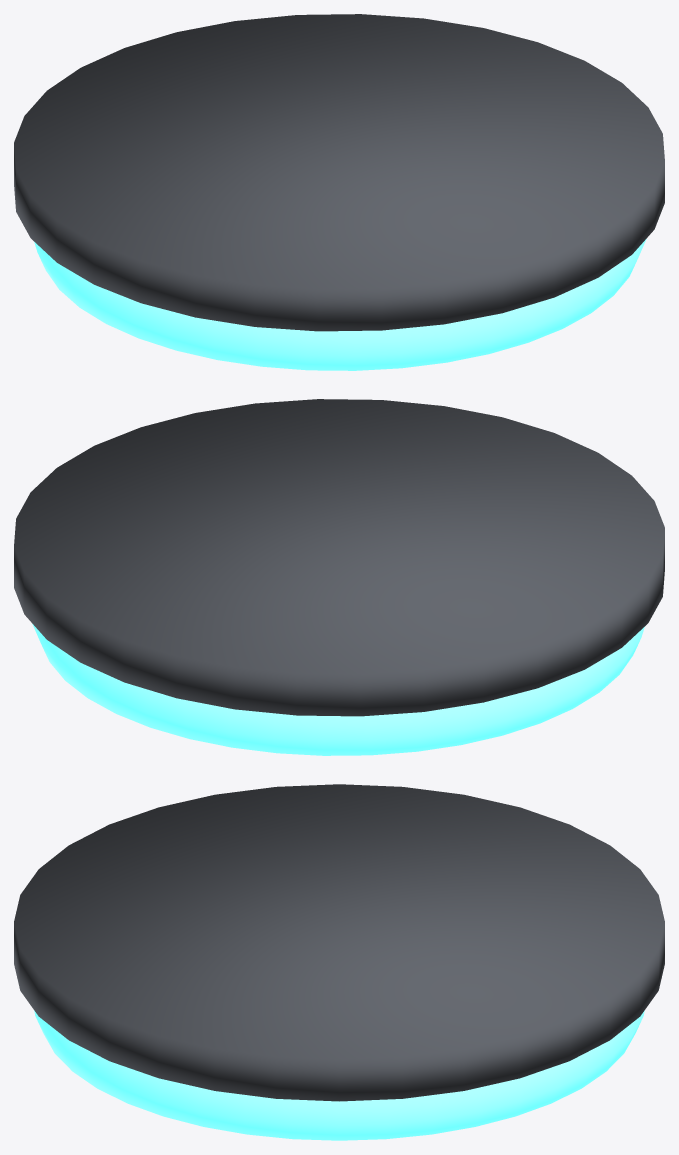
Rendered from ceiling_light_ring.glb.
3 views of the same model, one above another, from view 1: azimuth 30°, elevation 25°; view 2: azimuth 150°, elevation 25°; view 3: azimuth 270°, elevation 25° (orthographic).
Parts seen in each view (by area): view 1: GD_ceiling_light_ring__m0, GD_ceiling_light_ring__m1; view 2: GD_ceiling_light_ring__m0, GD_ceiling_light_ring__m1; view 3: GD_ceiling_light_ring__m0, GD_ceiling_light_ring__m1.
Boxes of the visible parts, x1,y1,x2,y2 form: GD_ceiling_light_ring__m0: (14,14,664,331); GD_ceiling_light_ring__m1: (34,239,646,370); GD_ceiling_light_ring__m0: (14,399,664,716); GD_ceiling_light_ring__m1: (32,624,644,755); GD_ceiling_light_ring__m0: (14,784,664,1101); GD_ceiling_light_ring__m1: (34,1010,644,1140).
Bounding box in the file's own units: 0.56 × 0.095 × 0.56.
